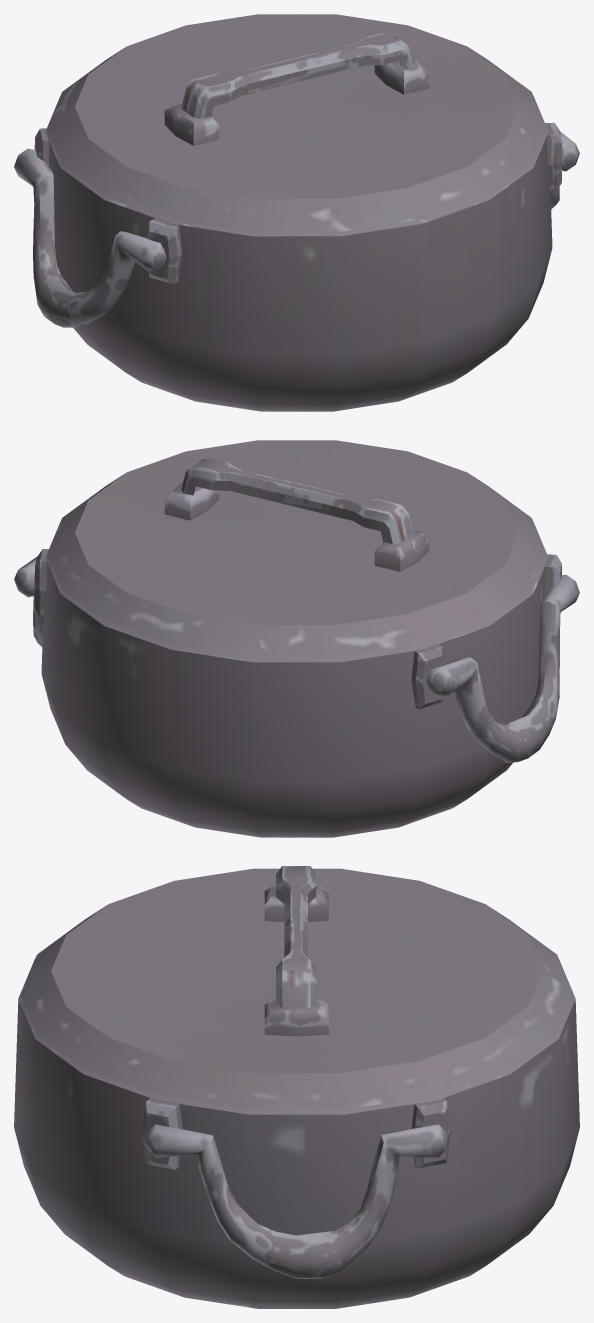
File: Pot_1_Lid.glb
The picture shows the model from 3 angles, top to bottom: view 1: azimuth 30°, elevation 25°; view 2: azimuth 150°, elevation 25°; view 3: azimuth 270°, elevation 25°; orthographic projection. The views are drawn at different scales.
Parts seen in each view (by area): view 1: Pot_1_Lid; view 2: Pot_1_Lid; view 3: Pot_1_Lid.
Boxes of the visible parts, x1,y1,x2,y2 form: Pot_1_Lid: (14, 14, 579, 411); Pot_1_Lid: (14, 440, 579, 837); Pot_1_Lid: (14, 866, 579, 1308).
Size of the model in its own units: 0.5393 by 0.2805 by 0.4861.
Materials: 1 (1 with a texture image).
